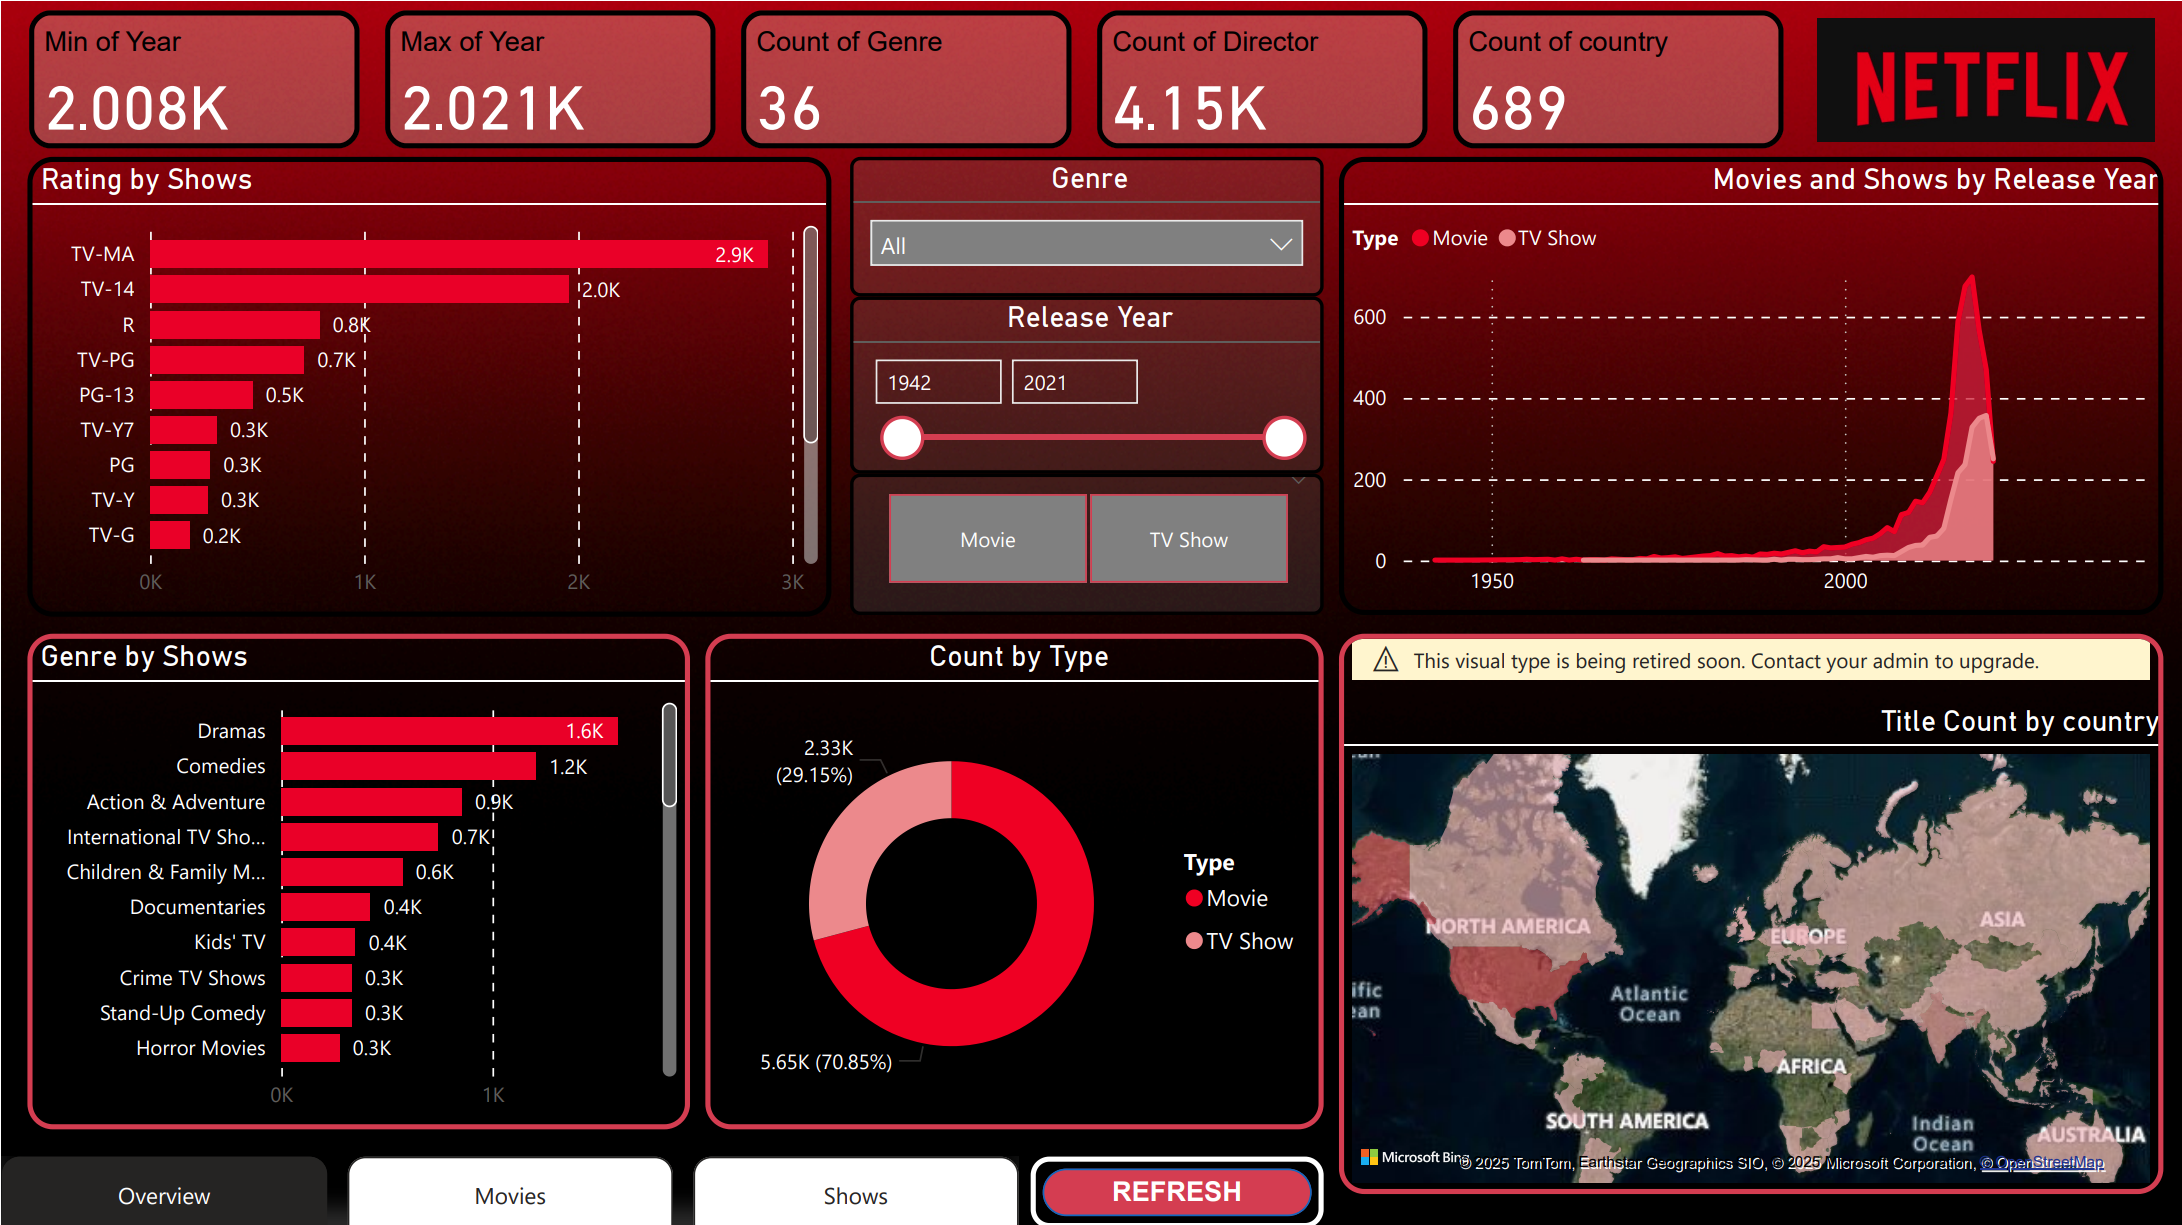

What the dashboard file says about the page in this screenshot:
{"tool":"powerbi","page":{"name":"Overview","canvas":[1280,720],"ordinal":0},"visuals":[{"type":"pageNavigator","box":[0,678.2,596.7,42.1],"z":0},{"type":"cardVisual","fields":{"Data":["Min(transformed_data.Year)","Max(transformed_data.Year)1","Count(transformed_data.genre)","Count(transformed_data.director)","Count(transformed_data.country)"]},"box":[0,0,1060.7,90.5],"z":1000},{"type":"areaChart","title":"Movies and Shows by Release Year","fields":{"Y":["CountNonNull(transformed_data.title)"],"Category":["transformed_data.release_year"],"Series":["transformed_data.type"]},"box":[785.3,90.5,483.2,269],"z":2000},{"type":"barChart","title":"Genre by Shows","fields":{"Category":["transformed_data.genre"],"Y":["CountNonNull(transformed_data.type)"]},"box":[15.3,371,388.8,290.7],"z":3000},{"type":"barChart","title":"Rating by Shows","fields":{"Y":["CountNonNull(transformed_data.type)"],"Category":["transformed_data.rating"]},"box":[15.3,90.5,471.7,270.3],"z":4000},{"type":"donutChart","title":"Count by Type","fields":{"Category":["transformed_data.type"],"Y":["CountNonNull(transformed_data.title)"]},"box":[413.1,371,363.3,290.7],"z":5000},{"type":"filledMap","title":"Title Count by country","fields":{"Category":["transformed_data.country"]},"box":[785.3,371,483.2,328.9],"z":6000},{"type":"slicer","fields":{"Values":["transformed_data.type"]},"box":[498.5,276.7,277.9,82.9],"z":7000},{"type":"slicer","title":"Genre","fields":{"Values":["transformed_data.genre"]},"box":[498.5,90.5,277.9,82.9],"z":8000},{"type":"slicer","title":"Release Year","fields":{"Values":["transformed_data.release_year"]},"box":[498.5,173.4,277.9,103.3],"z":9000},{"type":"image","box":[1060.7,0,207.8,90.5],"z":10000},{"type":"shape","box":[604.3,678.2,172.1,42.1],"z":11000}]}

Visuals, with their boxes in screenshot pixels (x1, y1, x2, y2), scaled from the page's 1280x720 canvas onto the 2182x1225 screenshot:
pageNavigator: Rect(0, 1154, 1017, 1224)
cardVisual - Min(transformed_data.Year) x Max(transformed_data.Year)1: Rect(0, 0, 1808, 154)
"Movies and Shows by Release Year" areaChart: Rect(1339, 154, 2162, 612)
"Genre by Shows" barChart: Rect(26, 631, 689, 1126)
"Rating by Shows" barChart: Rect(26, 154, 830, 614)
"Count by Type" donutChart: Rect(704, 631, 1324, 1126)
"Title Count by country" filledMap: Rect(1339, 631, 2162, 1191)
slicer - transformed_data.type: Rect(850, 471, 1324, 612)
"Genre" slicer: Rect(850, 154, 1324, 295)
"Release Year" slicer: Rect(850, 295, 1324, 471)
image: Rect(1808, 0, 2162, 154)
shape: Rect(1030, 1154, 1324, 1224)
